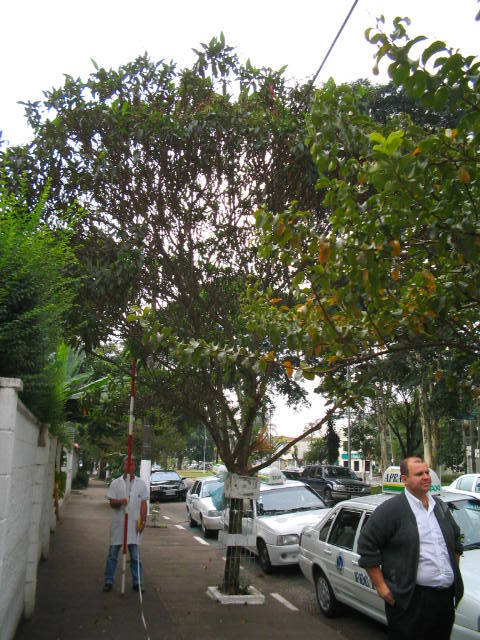crown: (4, 34, 436, 433)
stem: (212, 479, 255, 594)
stick: (118, 360, 143, 597)
tree: (1, 33, 437, 595)
